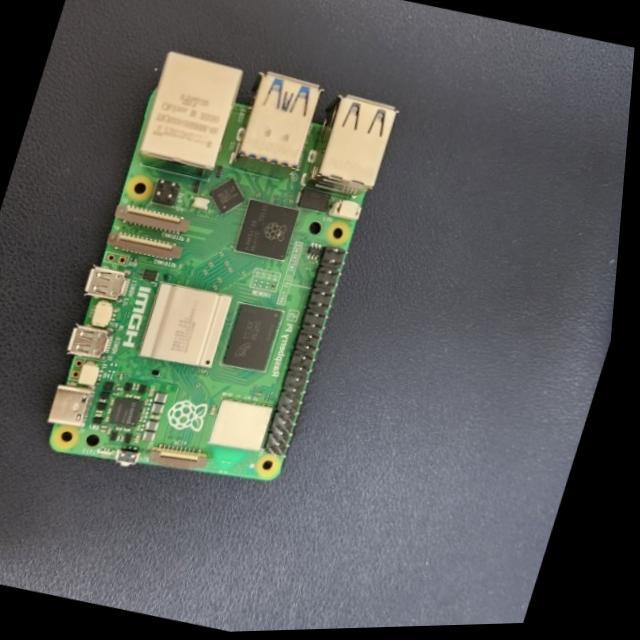Raspberry-Pi-5: (49, 54, 398, 481)
